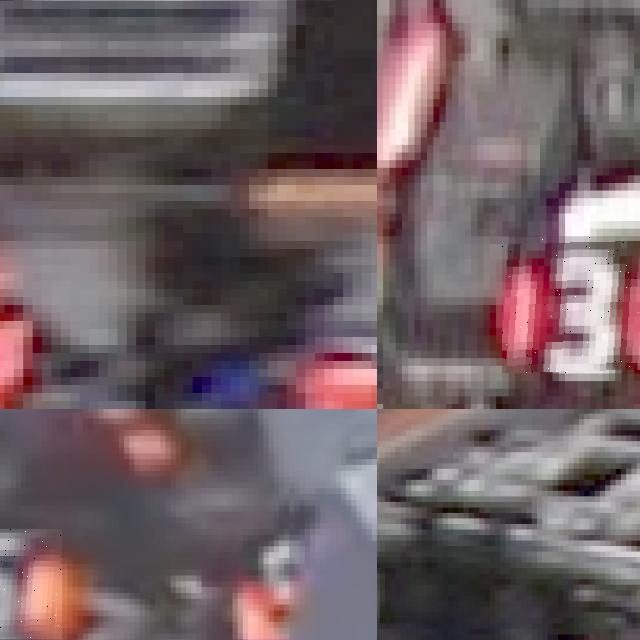R3: (502, 236, 640, 373)
R5: (0, 528, 62, 639)
